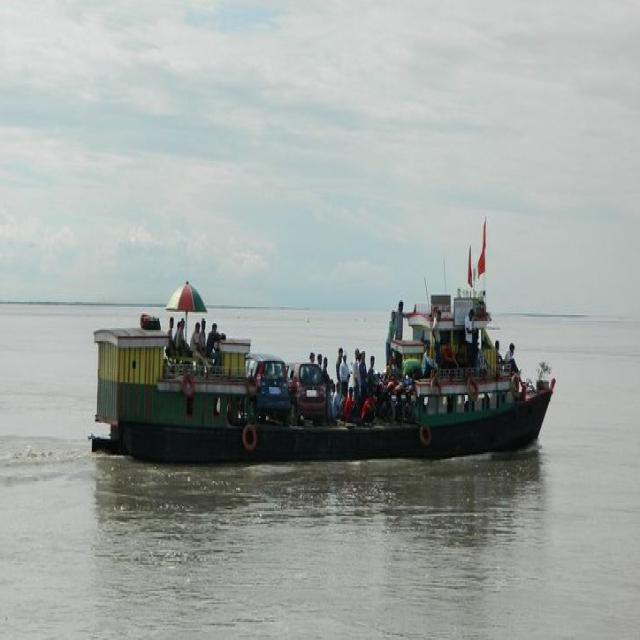fishing boat: (91, 254, 562, 466)
